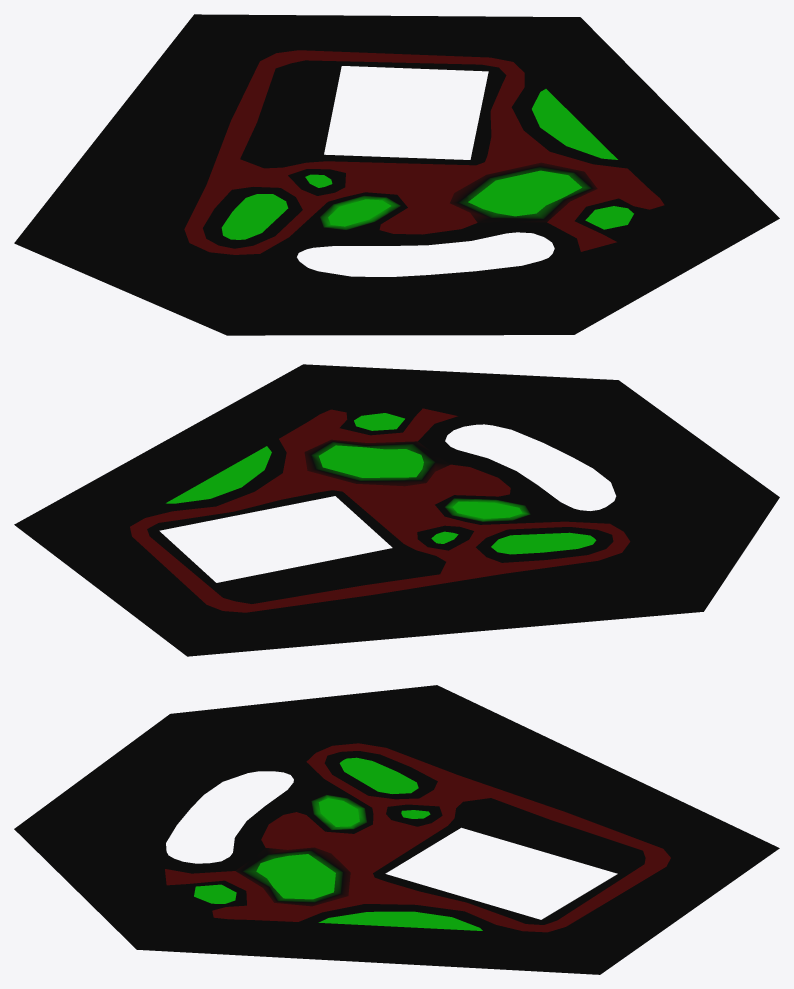
File: Park_Ground.fbx
The picture shows the model from 3 angles, top to bottom: view 1: azimuth 30°, elevation 25°; view 2: azimuth 150°, elevation 25°; view 3: azimuth 270°, elevation 25°; orthographic projection. The views are drawn at different scales.
Visible parts, largest first — view 1: Park_Ground; view 2: Park_Ground; view 3: Park_Ground.
Boxes of the visible parts, bbox=[...] form: Park_Ground: bbox=[14, 14, 779, 335]; Park_Ground: bbox=[14, 364, 779, 656]; Park_Ground: bbox=[14, 685, 779, 974].
Size of the model in its own units: 16311 by 0 by 18218.
